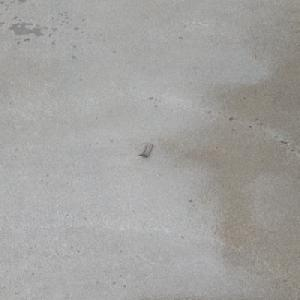MetalPart: (135, 143, 154, 157)
